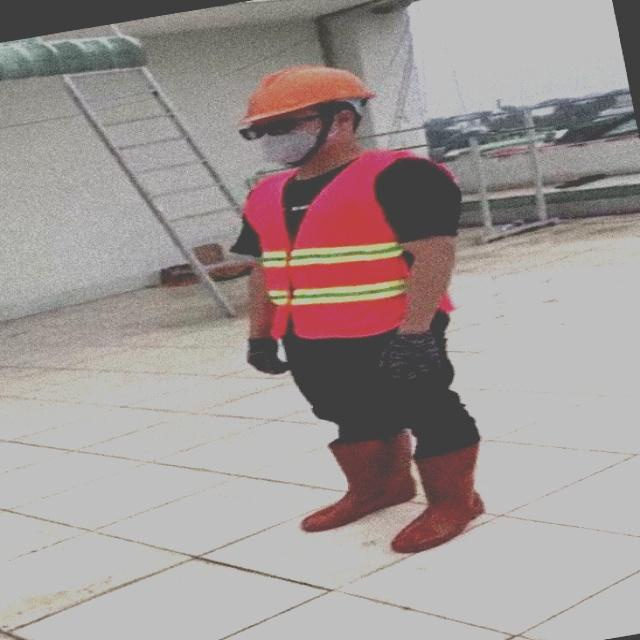Capacete: (241, 65, 374, 127)
Colete: (244, 150, 415, 338)
Oculos: (240, 114, 320, 140)
